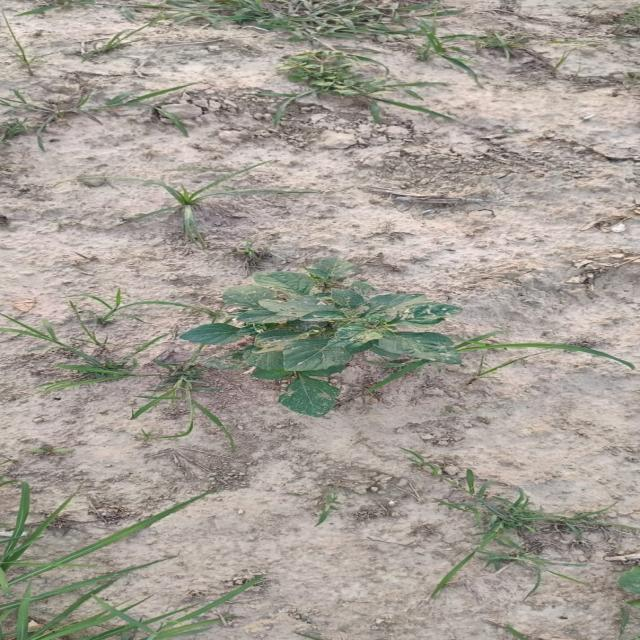plant: (179, 258, 460, 417)
